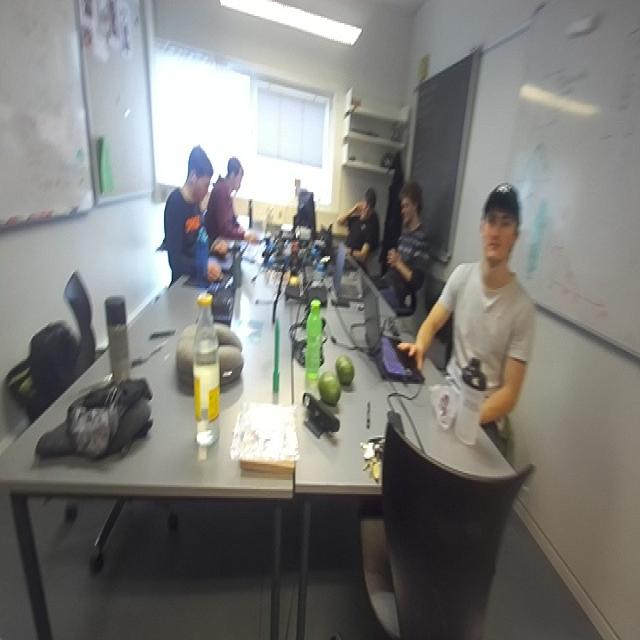probe: (272, 324, 279, 393)
